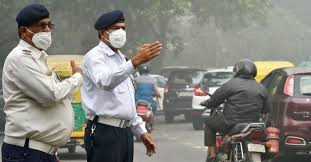mask: (20, 13, 55, 50), (101, 20, 129, 53)
